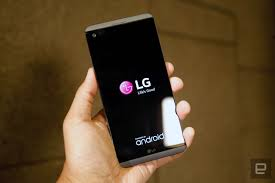lg: (80, 12, 191, 169)
